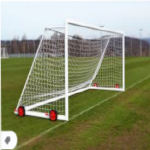goals: (14, 20, 126, 122)
